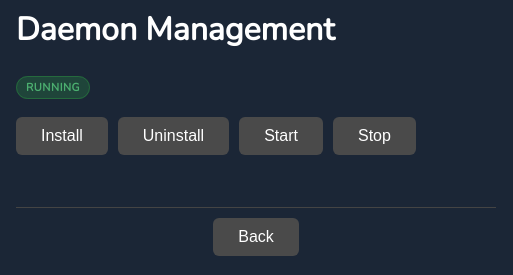
DaemonManagementView › reports an action error
Click the button with id "daemon-stop-btn" at [374, 136], box [333,117,416,155]
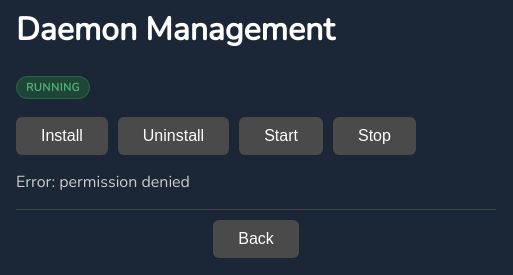
Now the text with id "daemon-management-result" reads "Error: permission denied", box [16,171,190,193]
